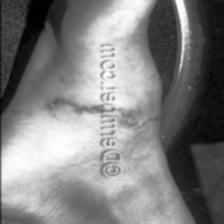Toxin: (41, 96, 100, 118), (118, 104, 160, 130)
